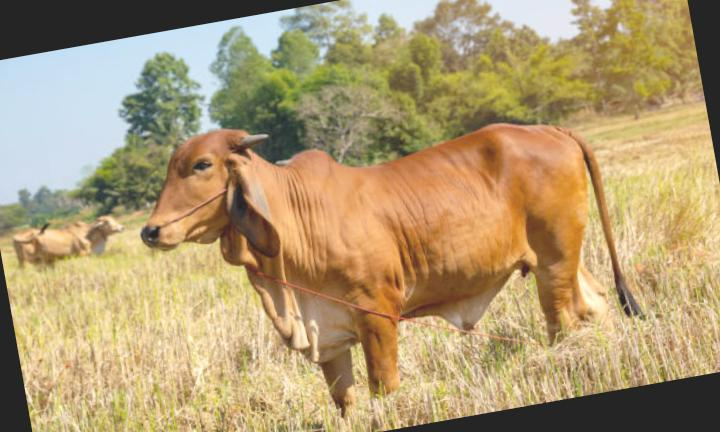Brahman: (142, 124, 642, 412), (143, 123, 641, 409)
